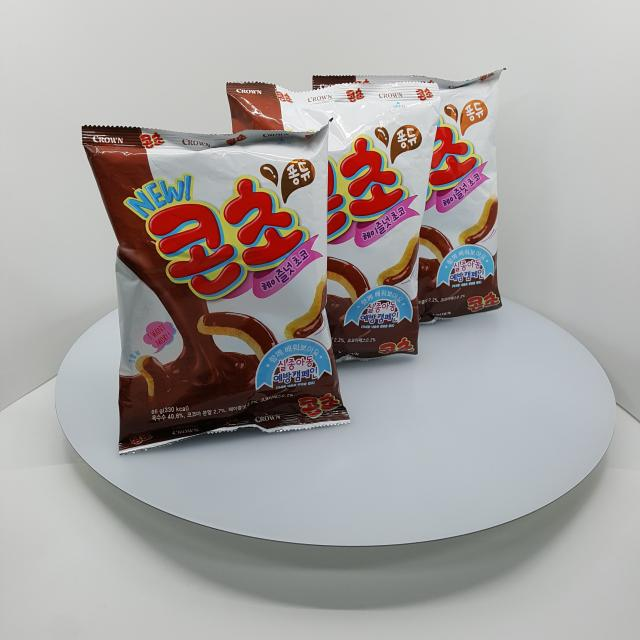-66G: (82, 118, 352, 457), (227, 82, 442, 365), (313, 69, 507, 326)
